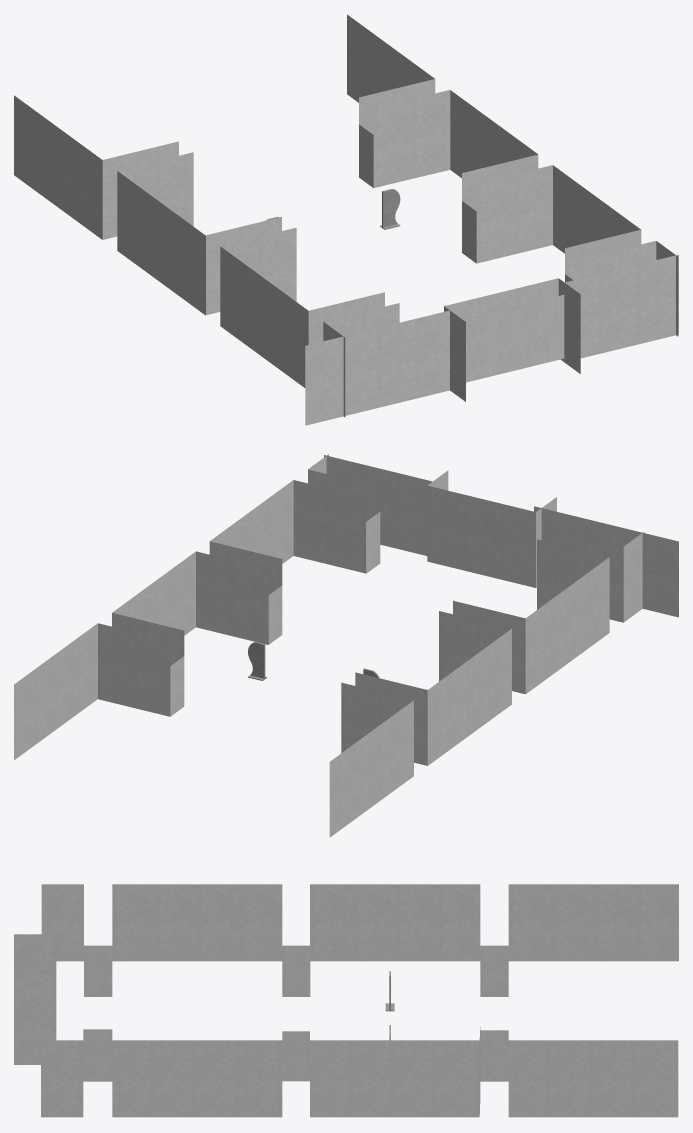
The model's file is Wall_segments.gltf.
The picture shows the model from 3 angles, top to bottom: view 1: azimuth 30°, elevation 25°; view 2: azimuth 150°, elevation 25°; view 3: azimuth 270°, elevation 25°; orthographic projection. The views are drawn at different scales.
Visible parts, largest first — view 1: Wall_segment_028, Wall_segment_014, Wall_segment_063, Wall_segment_062, Wall_segment_026, Wall_segment_056, Wall_segment_010, Wall_segment_012, Wall_segment_055, Wall_segment_013, Wall_segment_004, Wall_segment_002 (+43 smaller); view 2: Wall_segment_060, Wall_segment_068, Wall_segment_029, Wall_segment_024, Wall_segment_059, Wall_segment_014, Wall_segment_057, Wall_segment_069, Wall_segment_052, Wall_segment_032, Wall_segment_008, Wall_segment_011 (+42 smaller); view 3: Wall_segment_007, Wall_segment_037, Wall_segment_041, Wall_segment_064, Wall_segment_066, Wall_segment_036, Wall_segment_005, Wall_segment_039, Wall_segment_044, Wall_segment_065, Wall_segment_067, Wall_segment_034 (+22 smaller).
Part boxes in pixels (x1,y1,x2,y2): Wall_segment_028: (411, 90, 450, 178); Wall_segment_014: (305, 336, 343, 425); Wall_segment_063: (514, 165, 552, 254); Wall_segment_062: (476, 174, 514, 263); Wall_segment_026: (373, 99, 411, 187); Wall_segment_056: (381, 318, 419, 406); Wall_segment_010: (602, 264, 640, 352); Wall_segment_012: (640, 254, 678, 343); Wall_segment_055: (344, 327, 381, 415); Wall_segment_013: (420, 308, 457, 397); Wall_segment_004: (491, 303, 527, 375); Wall_segment_002: (528, 294, 564, 367); Wall_segment_060: (232, 560, 268, 644); Wall_segment_068: (293, 480, 329, 564); Wall_segment_029: (134, 632, 170, 716); Wall_segment_024: (427, 485, 463, 570); Wall_segment_059: (196, 551, 232, 635); Wall_segment_014: (642, 533, 678, 617); Wall_segment_057: (499, 503, 535, 587); Wall_segment_069: (329, 489, 365, 573); Wall_segment_052: (463, 494, 499, 578); Wall_segment_032: (98, 623, 133, 707); Wall_segment_008: (396, 473, 432, 555); Wall_segment_011: (341, 682, 377, 752); Wall_segment_007: (508, 884, 551, 961); Wall_segment_037: (239, 884, 282, 961); Wall_segment_041: (154, 884, 197, 961); Wall_segment_064: (239, 1040, 282, 1117); Wall_segment_066: (154, 1040, 197, 1117); Wall_segment_036: (394, 1040, 437, 1117); Wall_segment_005: (551, 884, 594, 961); Wall_segment_039: (197, 884, 239, 961); Wall_segment_044: (112, 884, 154, 961); Wall_segment_065: (197, 1040, 239, 1117); Wall_segment_067: (112, 1040, 154, 1117); Wall_segment_034: (437, 1040, 479, 1117).
Size of the model in its own units: 29.32 by 6.02 by 46.99.
Materials: 2 (2 with a texture image).
